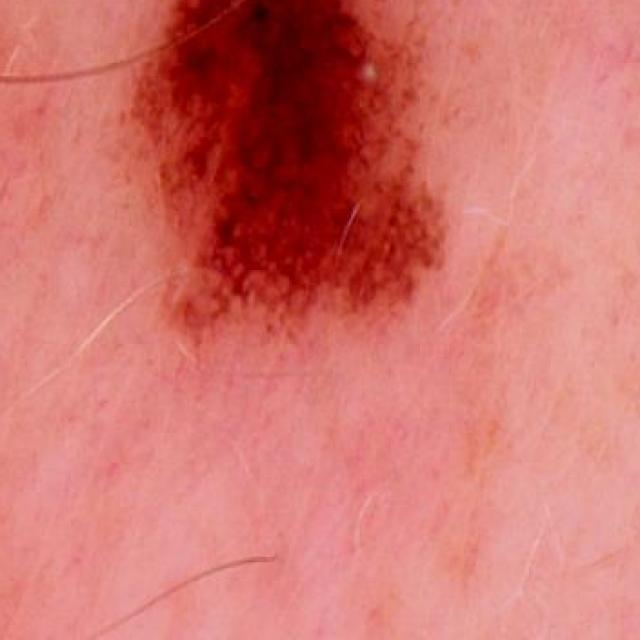NV: (131, 0, 469, 342)
